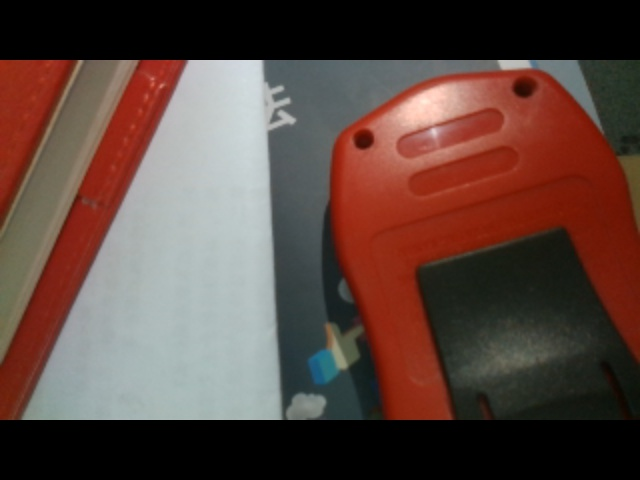Screw holes: (351, 126, 376, 151), (513, 76, 539, 98)
